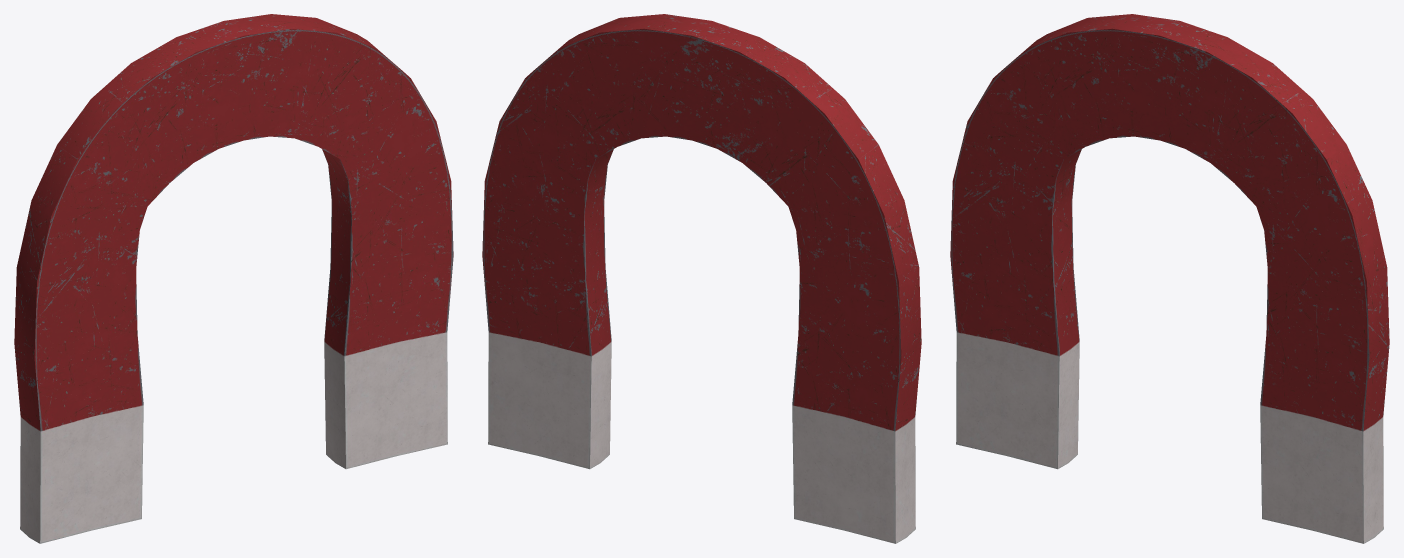
The picture shows the model from 3 angles, left to right: view 1: azimuth 30°, elevation 25°; view 2: azimuth 150°, elevation 25°; view 3: azimuth 330°, elevation 25°; orthographic projection.
Parts seen in each view (by area): view 1: magnet_0; view 2: magnet_0; view 3: magnet_0.
Part boxes in pixels (x1=…): magnet_0: x1=14, y1=14, x2=453, y2=543; magnet_0: x1=482, y1=14, x2=921, y2=543; magnet_0: x1=950, y1=14, x2=1389, y2=543.
Size of the model in its own units: 3.03 by 3.16 by 0.2567.
Materials: 1 (1 with a texture image).
